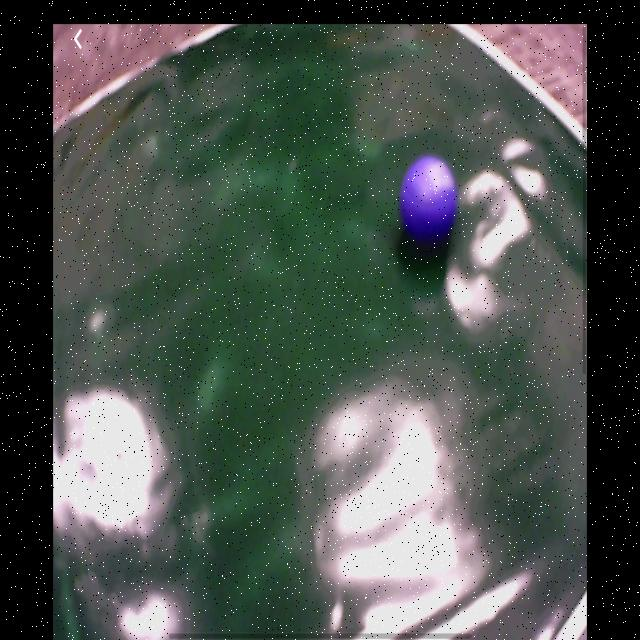ball: (402, 156, 458, 245)
